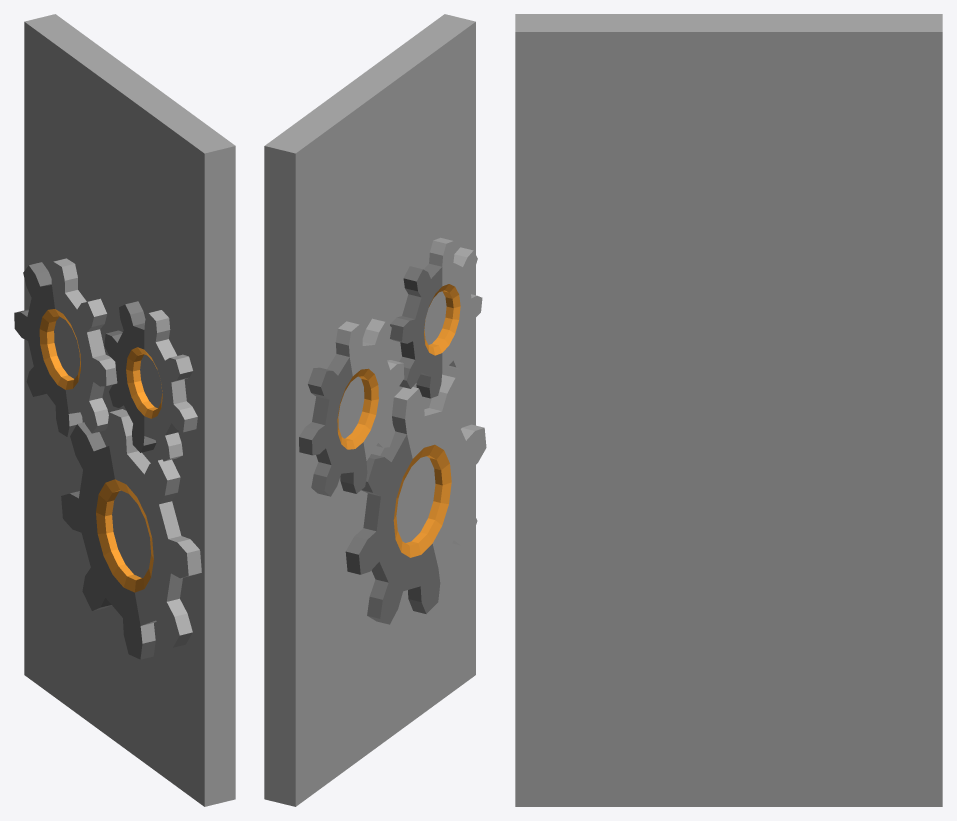
File: gears_wall.fbx
3 views of the same model, side by side, from view 1: azimuth 30°, elevation 25°; view 2: azimuth 150°, elevation 25°; view 3: azimuth 270°, elevation 25° (orthographic). The views are drawn at different scales.
Visible parts, largest first — view 1: Plane; view 2: Plane; view 3: Plane.
Boxes of the visible parts, x1,y1,x2,y2 form: Plane: (14,14,235,806); Plane: (264,14,486,806); Plane: (515,14,942,806).
Bounding box in the file's own units: 14.23 × 200 × 100.
